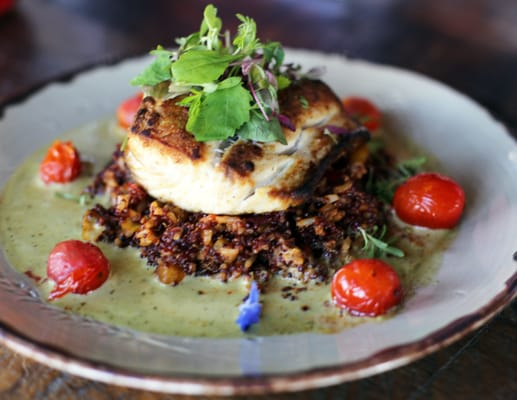curry: (8, 5, 517, 391)
